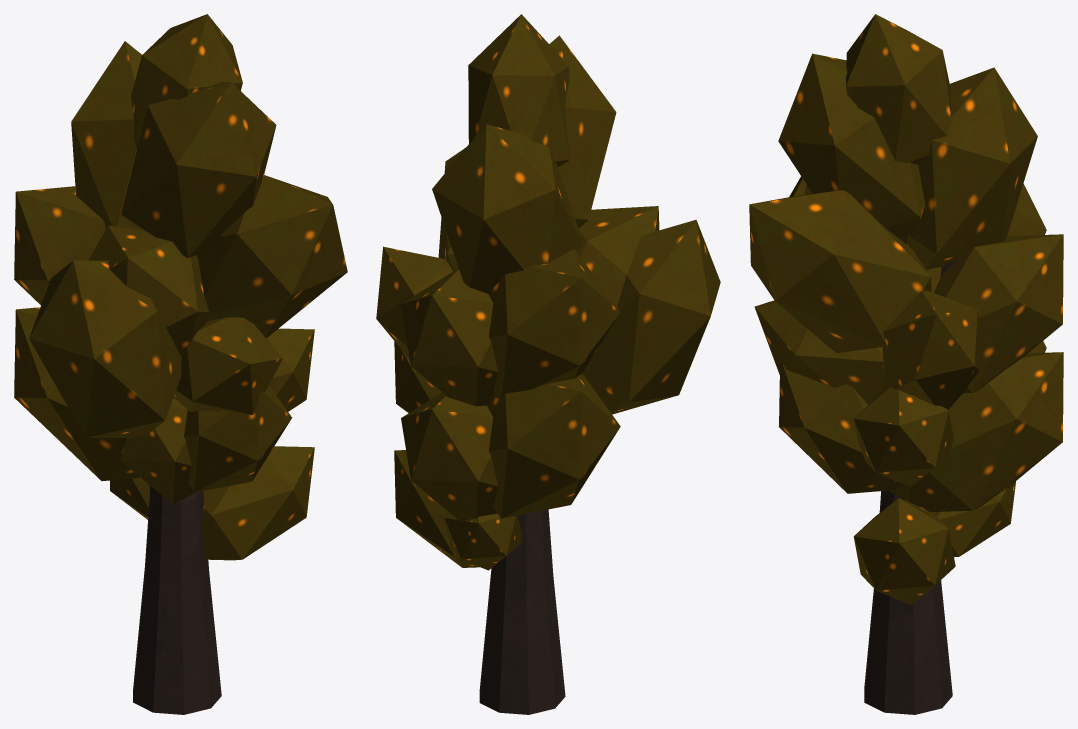
The model's file is tree-dark-green-flowers_9.fbx.
The picture shows the model from 3 angles, left to right: view 1: azimuth 30°, elevation 25°; view 2: azimuth 150°, elevation 25°; view 3: azimuth 270°, elevation 25°; orthographic projection. The views are drawn at different scales.
Visible parts, largest first — view 1: Icosphere.132; view 2: Icosphere.132; view 3: Icosphere.132.
Part boxes in pixels (x1=…): Icosphere.132: x1=14, y1=14, x2=347, y2=714; Icosphere.132: x1=376, y1=14, x2=720, y2=714; Icosphere.132: x1=749, y1=14, x2=1063, y2=714.
Bounding box in the file's own units: 180 × 387 × 160.
